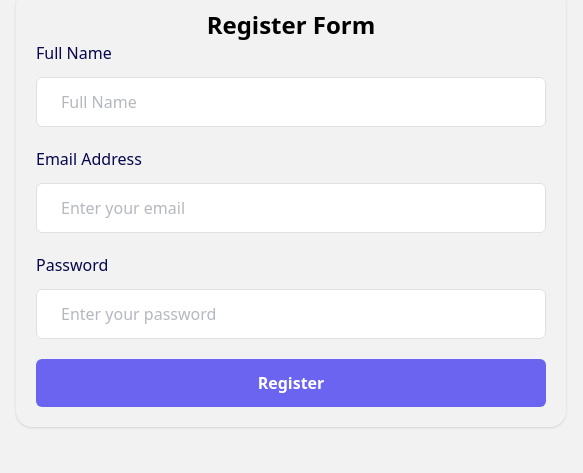
shows an error message for an invalid email
Type "vijay-gamil.com" into the field labelled "Email Address" at {"x": 291, "y": 208}, box [36, 183, 546, 233]
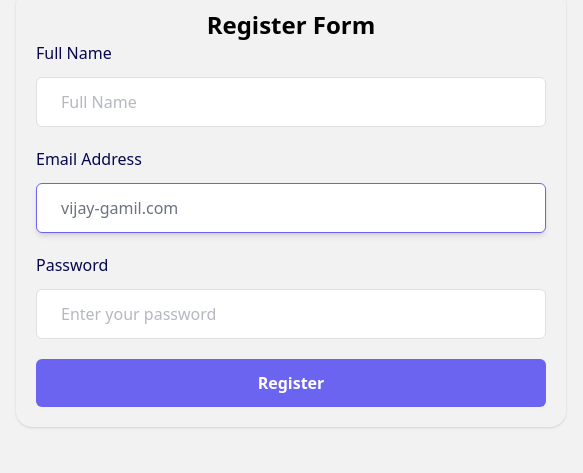
Click the button "Register" at {"x": 291, "y": 383}, box [36, 359, 546, 407]
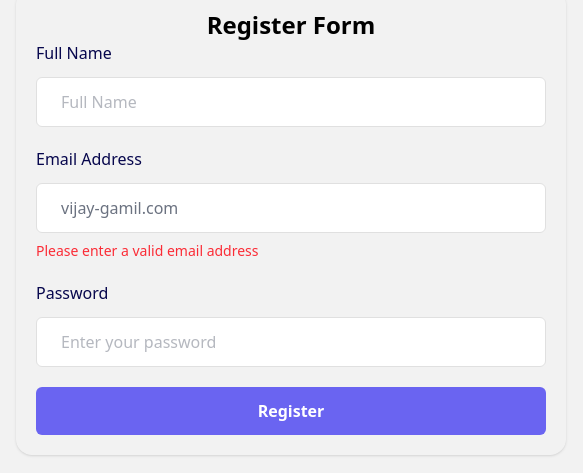
Now the text "Please enter a valid email address" is shown, box [36, 241, 258, 260]
